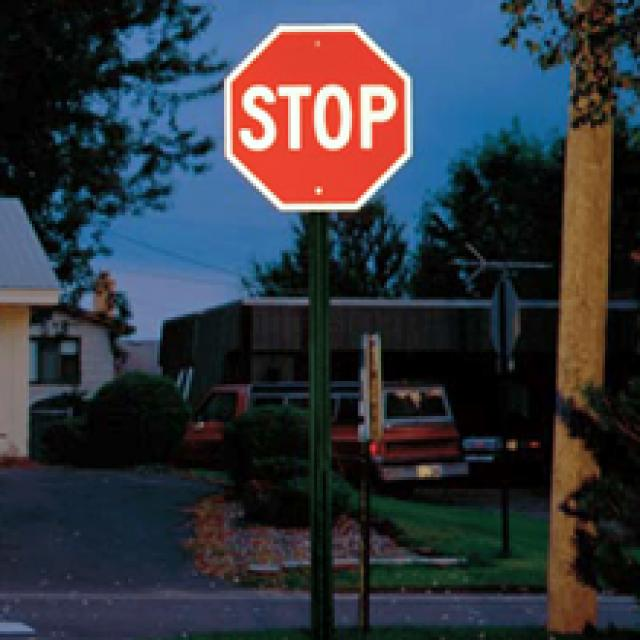stop-sign: (186, 0, 462, 218)
